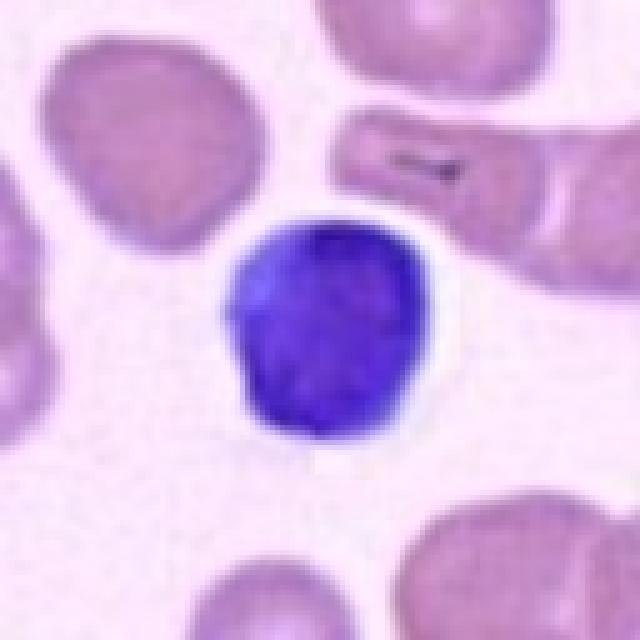lympho: (219, 212, 447, 447)
